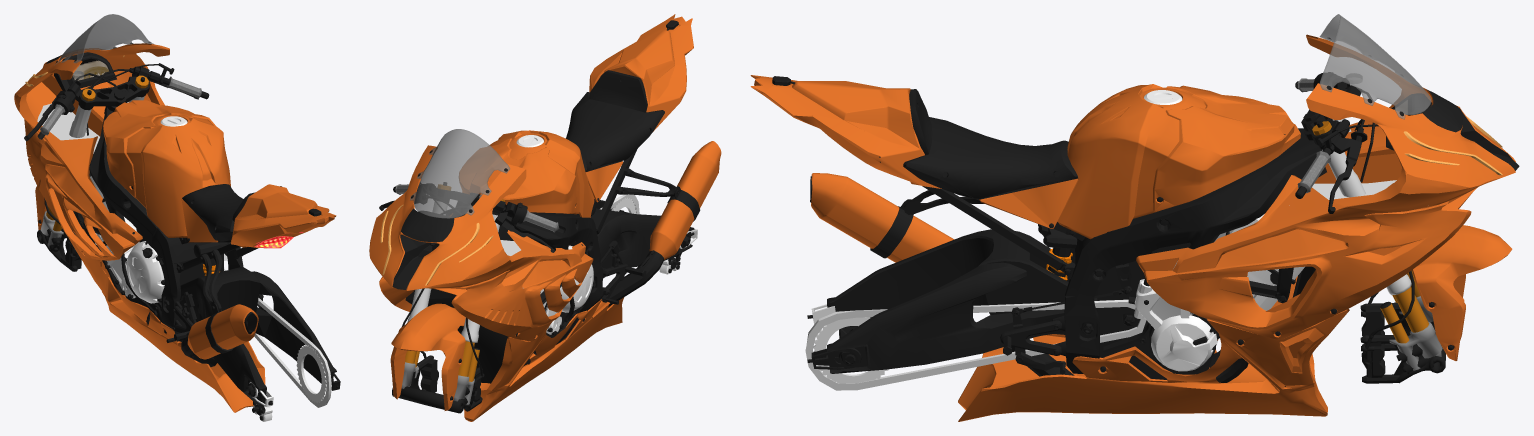
File: SportsBike.fbx
The picture shows the model from 3 angles, left to right: view 1: azimuth 30°, elevation 25°; view 2: azimuth 150°, elevation 25°; view 3: azimuth 270°, elevation 25°; orthographic projection. The views are drawn at different scales.
Visible parts, largest first — view 1: Paint, MainBody, SuspensionSystem, HandleSystem; view 2: Paint, MainBody, HandleSystem, SuspensionSystem; view 3: Paint, MainBody, SuspensionSystem, HandleSystem.
Boxes of the visible parts, x1,y1,x2,y2 form: Paint: (14, 43, 336, 412); MainBody: (25, 14, 321, 367); SuspensionSystem: (180, 267, 340, 421); HandleSystem: (24, 63, 209, 271); Paint: (369, 14, 721, 421); MainBody: (380, 20, 700, 383); HandleSystem: (379, 182, 565, 413); SuspensionSystem: (590, 194, 697, 278); Paint: (750, 34, 1515, 421); MainBody: (772, 14, 1519, 386); SuspensionSystem: (805, 229, 1146, 390); HandleSystem: (1295, 72, 1512, 383).
Bounding box in the file's own units: 176 × 283 × 495.
